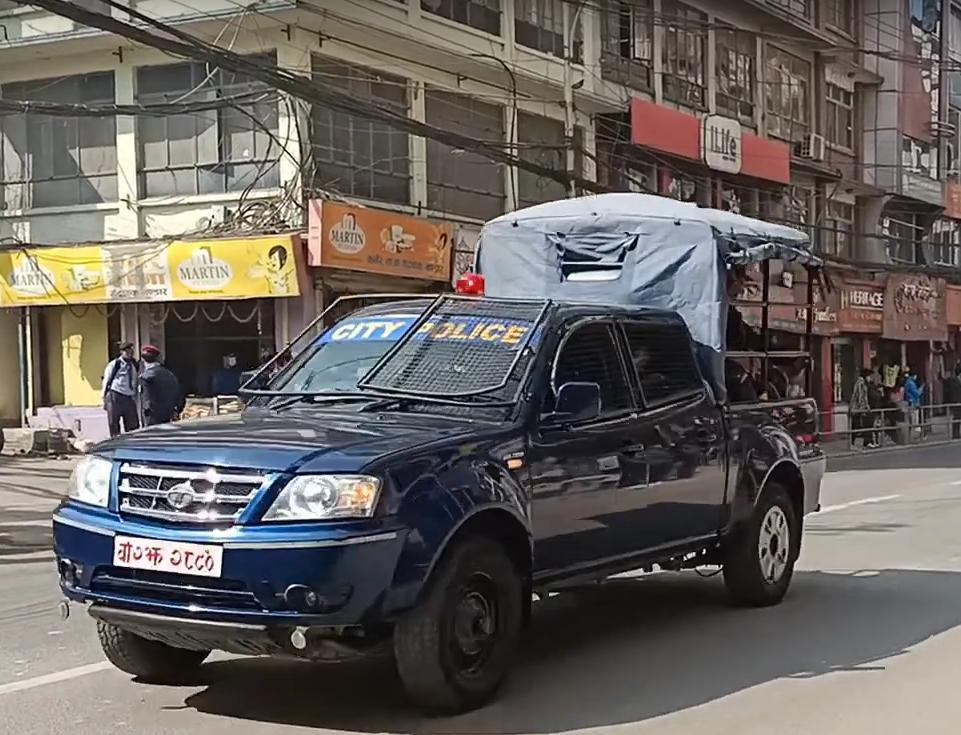police_vehicle: (41, 186, 830, 728)
